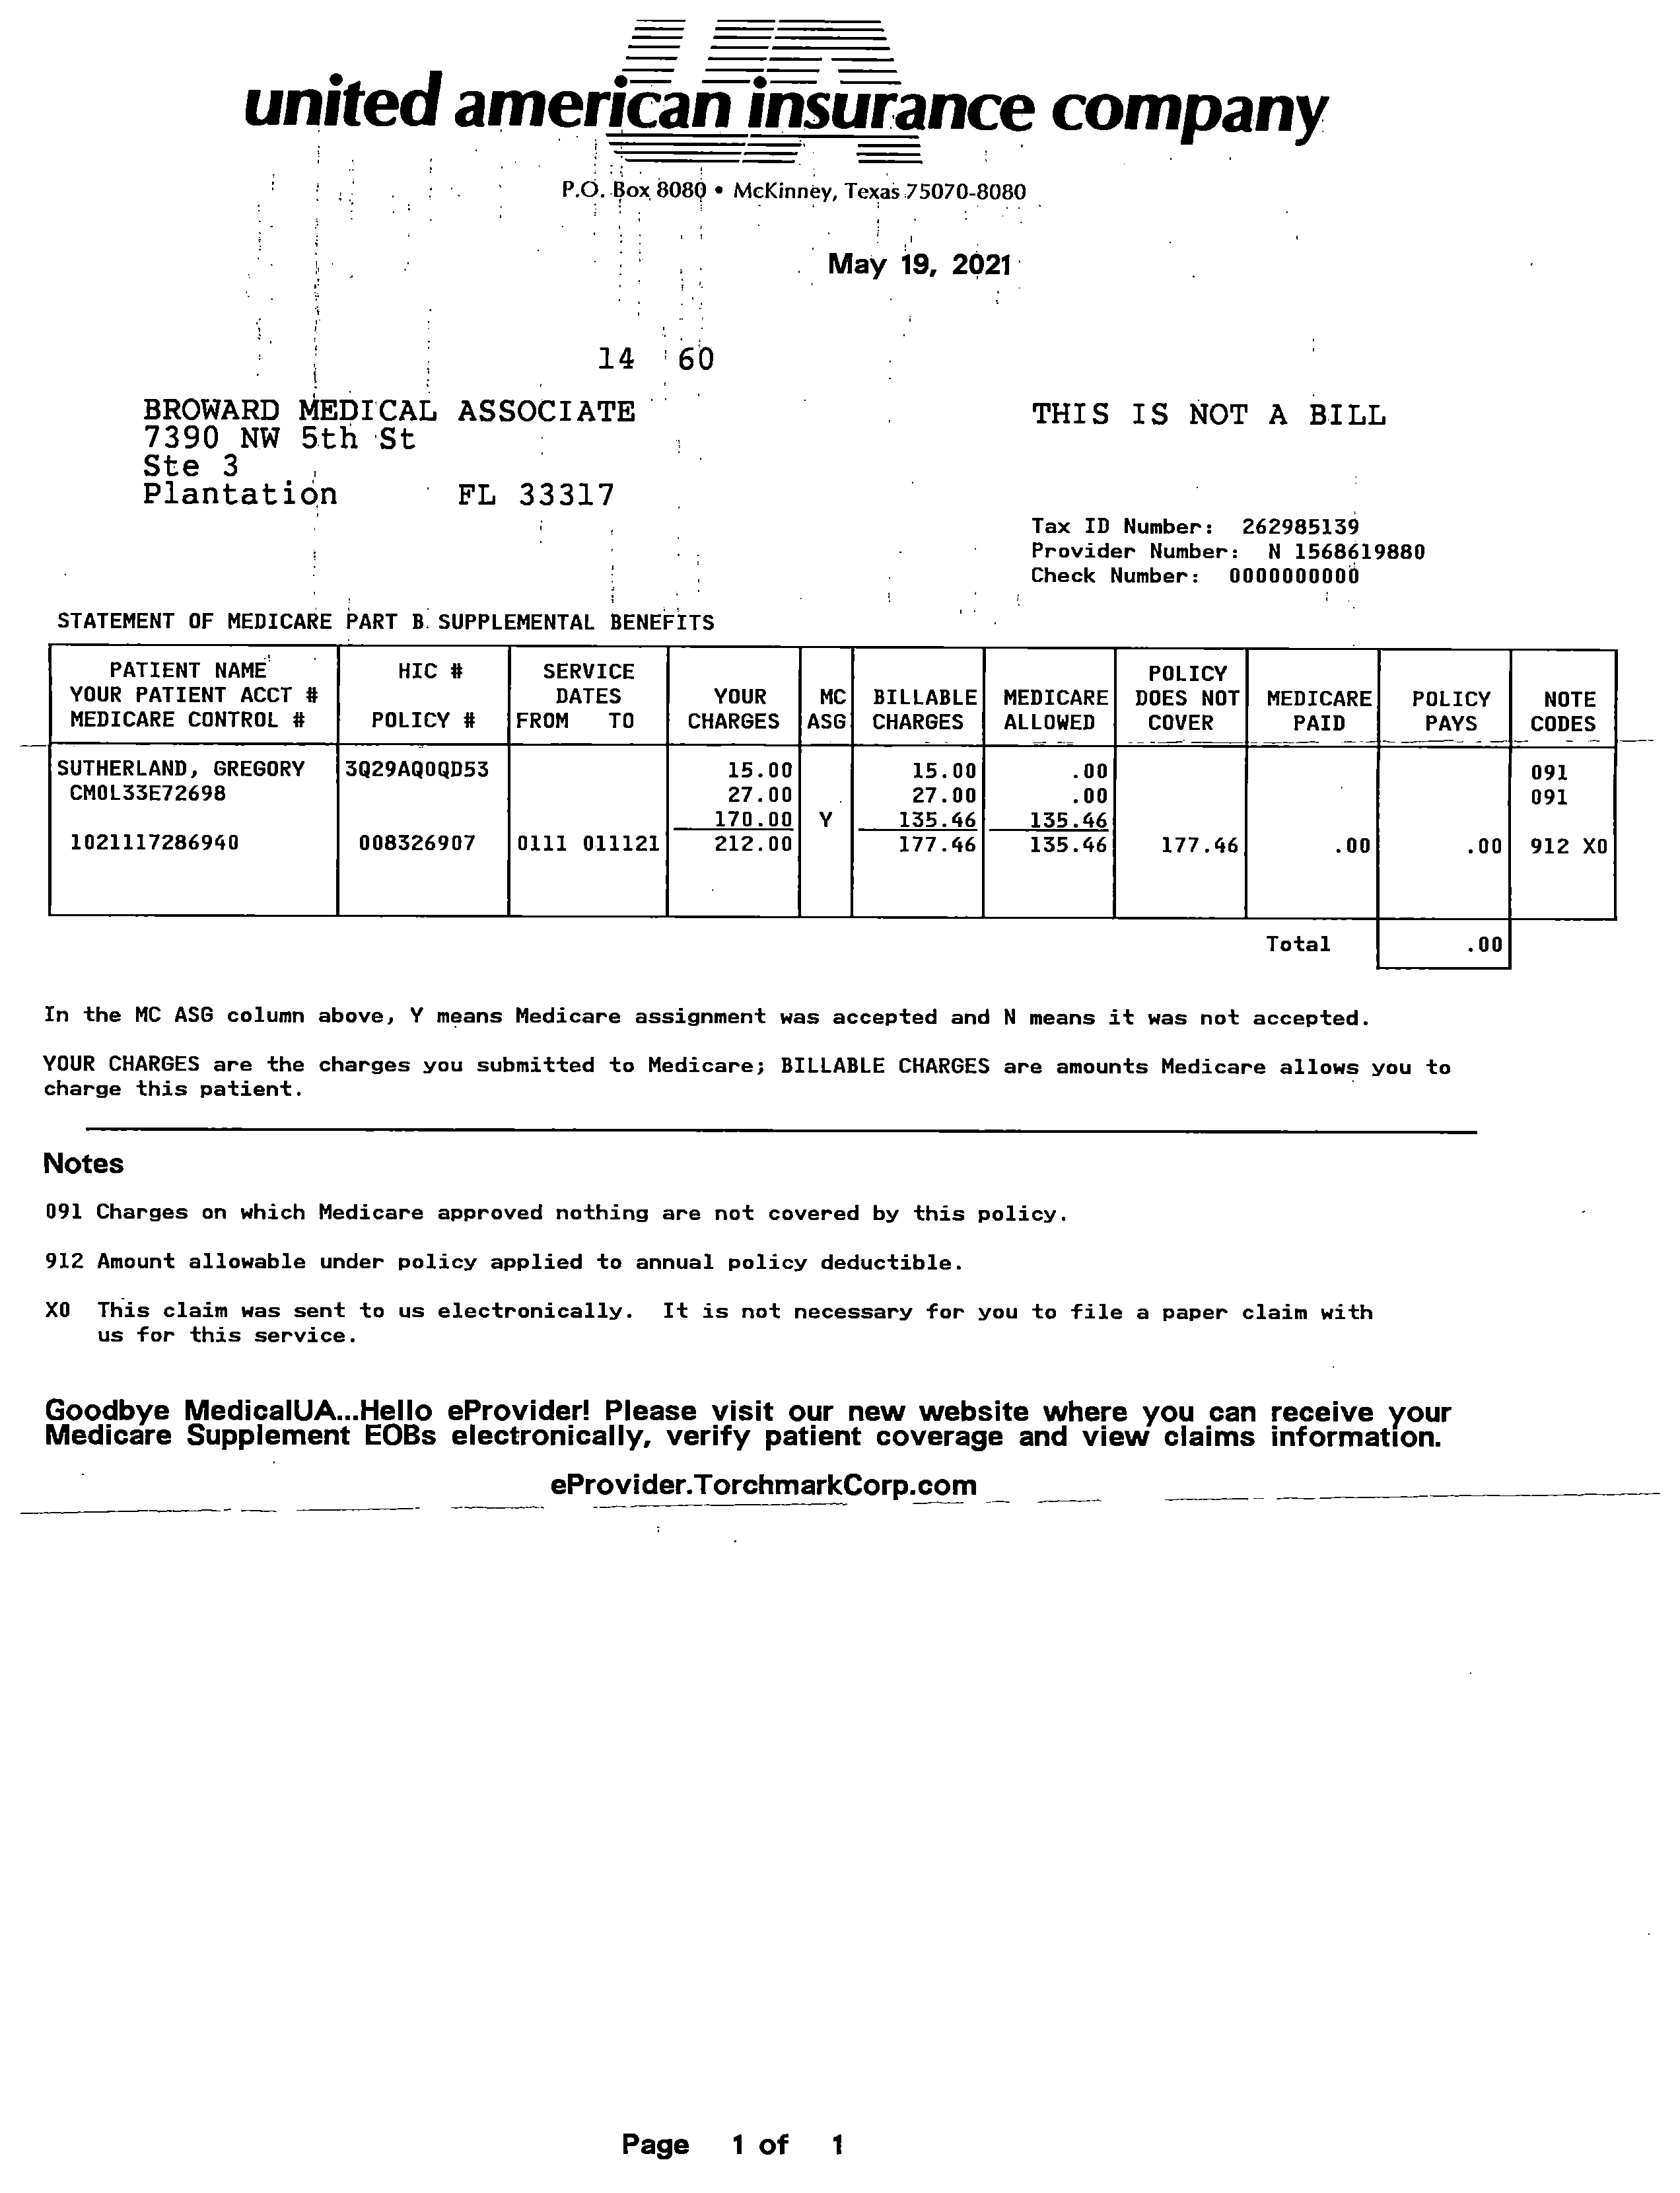table: (32, 633, 1645, 930)
